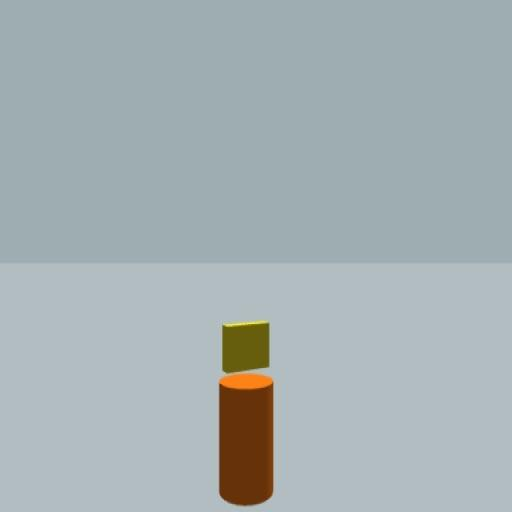buoy: (218, 320, 276, 506)
